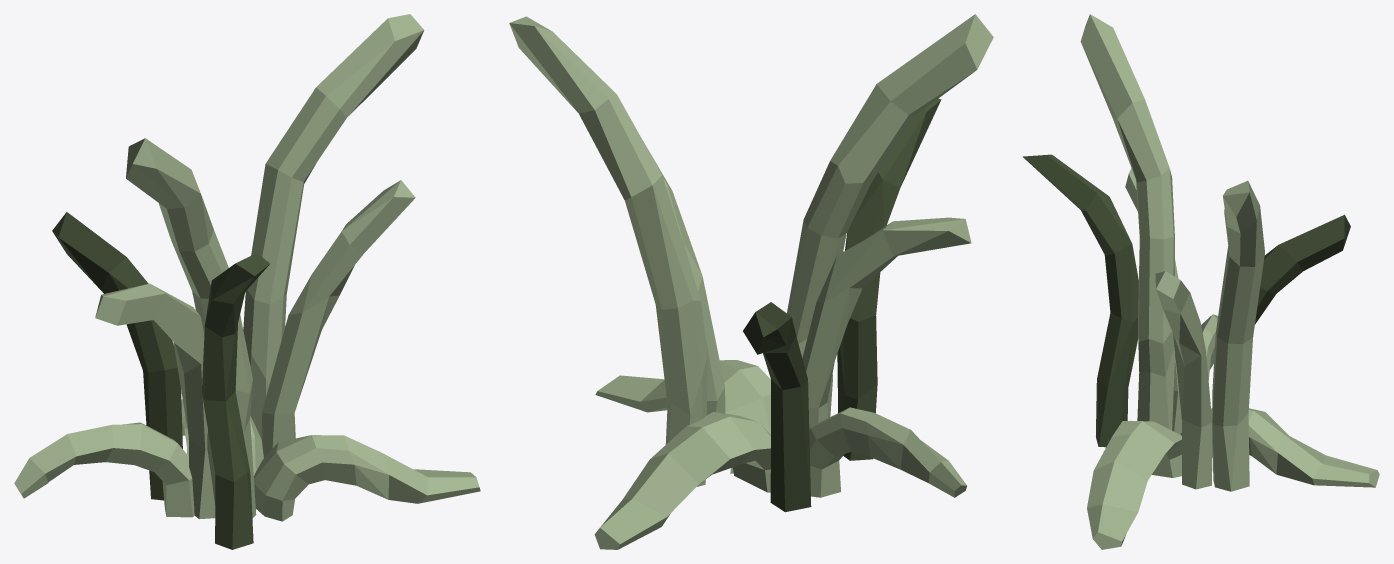
Rendered from EA_Swamp_Grass_01a.glb.
3 renders of one model, left to right at view 1: azimuth 30°, elevation 25°; view 2: azimuth 150°, elevation 25°; view 3: azimuth 270°, elevation 25°, orthographic. The views are drawn at different scales.
Visible parts, largest first — view 1: EA_Swamp_Grass_01a; view 2: EA_Swamp_Grass_01a; view 3: EA_Swamp_Grass_01a.
Boxes of the visible parts, x1,y1,x2,y2 form: EA_Swamp_Grass_01a: [14, 14, 480, 549]; EA_Swamp_Grass_01a: [509, 14, 993, 549]; EA_Swamp_Grass_01a: [1022, 14, 1379, 549].
Size of the model in its own units: 1.13 by 1.15 by 0.9545.
Materials: 1 (1 with a texture image).
